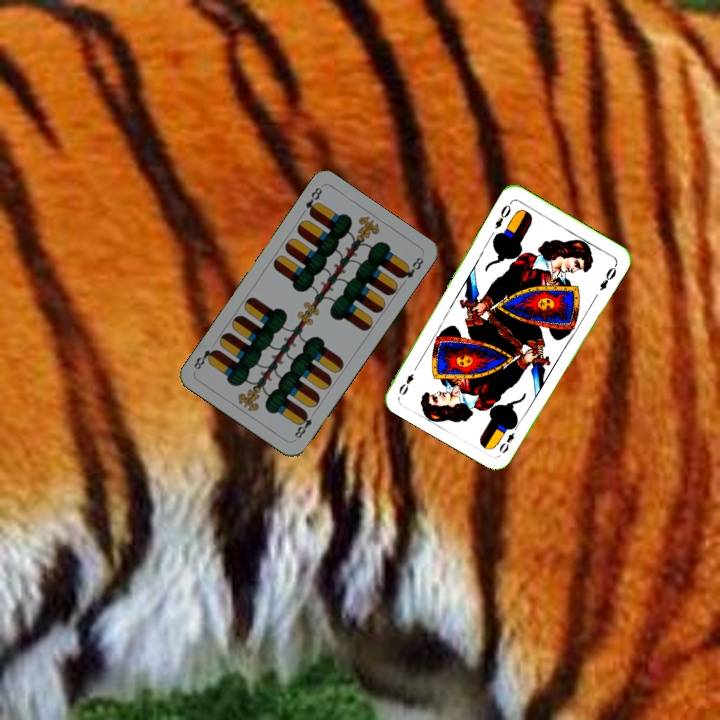E8: (290, 408, 315, 443), (301, 183, 325, 219)
EO: (495, 420, 522, 456), (491, 197, 514, 231)
